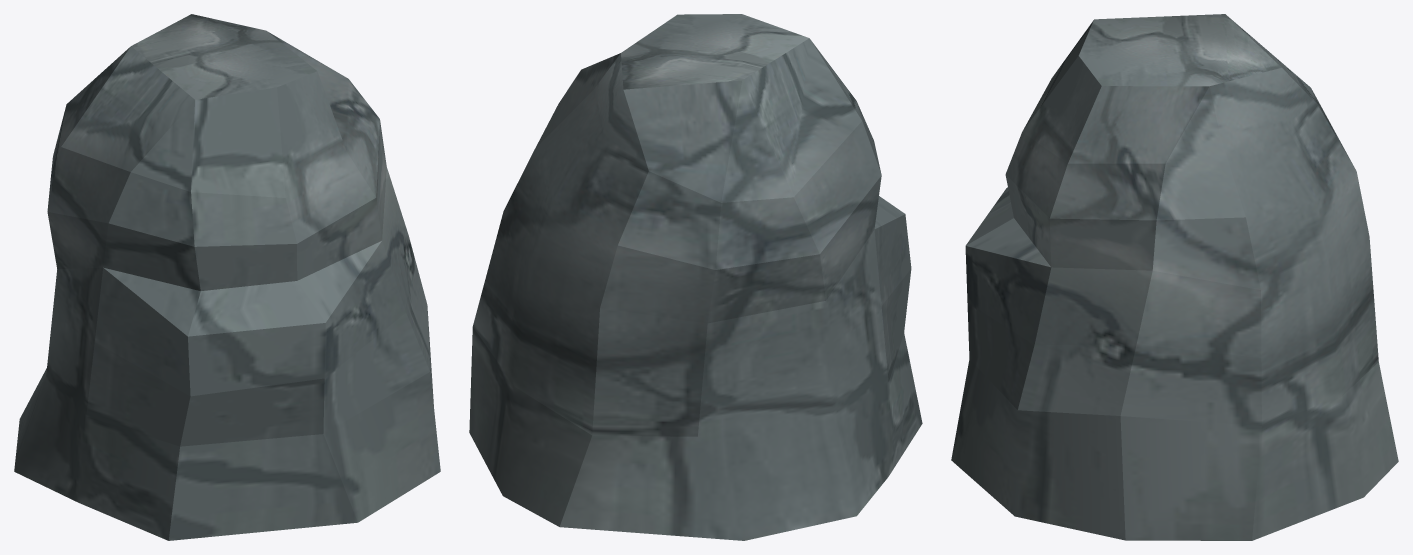
File: desert_stone02.FBX
The picture shows the model from 3 angles, left to right: view 1: azimuth 30°, elevation 25°; view 2: azimuth 150°, elevation 25°; view 3: azimuth 270°, elevation 25°; orthographic projection.
Visible parts, largest first — view 1: Line011; view 2: Line011; view 3: Line011.
Part boxes in pixels (x1,y1,x2,y2): Line011: [14, 14, 440, 540]; Line011: [469, 14, 922, 540]; Line011: [951, 14, 1398, 540].
Size of the model in its own units: 47.41 by 48.89 by 49.36.
